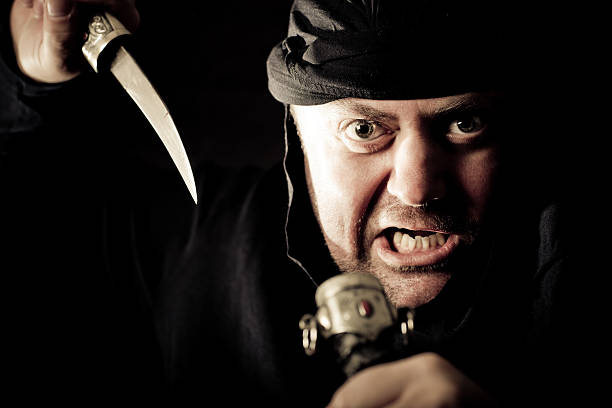knife: (73, 0, 203, 210)
